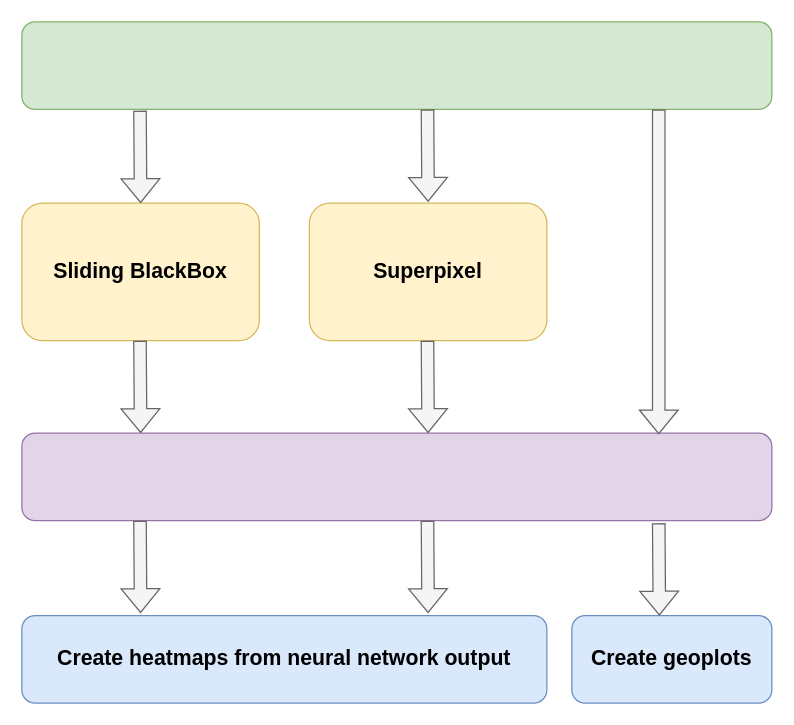
Some shapes in this 794 by 725 pixel diagram are drawn without their labels. Here are the shapes that lost their labels. From the top down, the centre of each, then its label:
the point at 396,65: Select raw image
the point at 396,476: Process with neural network PlaNet
